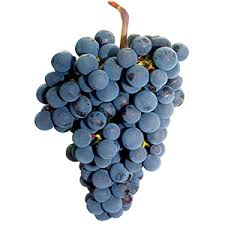Black grapes: (29, 25, 180, 225)
